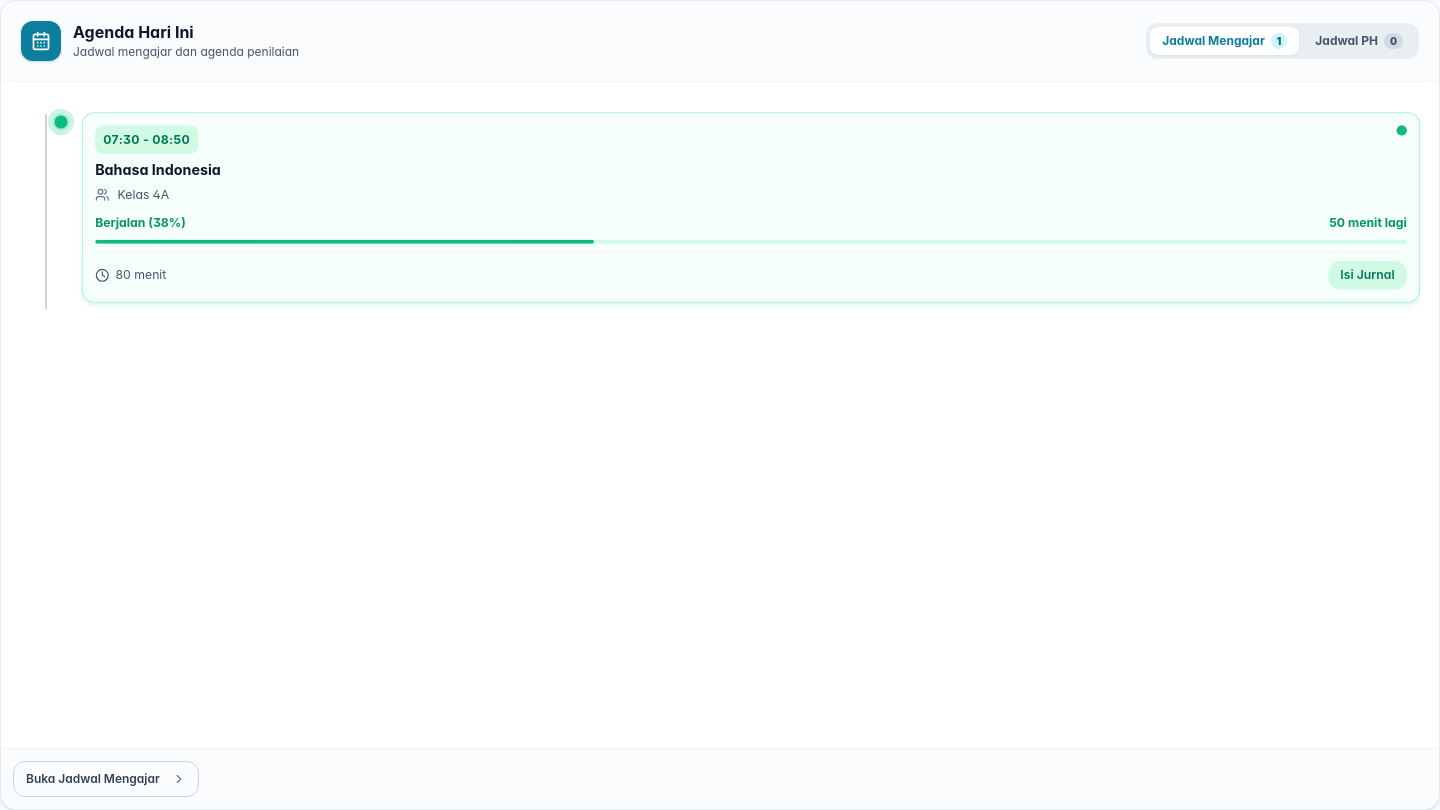
TodayAgendaCard › switches to Jadwal PH tab upon clicking the tab button
Click the button "Jadwal PH 0".
click(1359, 41)  # box [1303,27,1415,55]
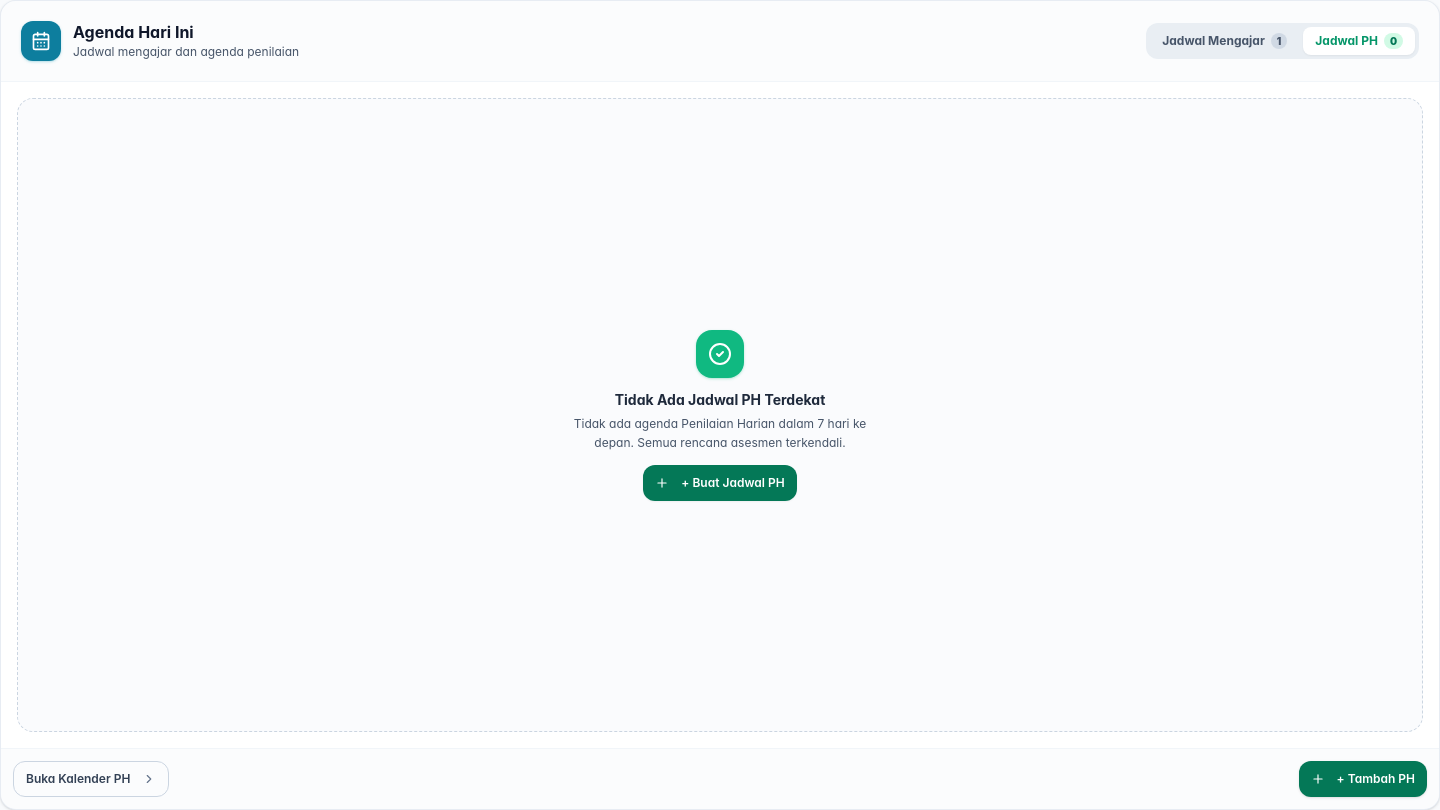
Check: the text "Buka Kalender PH" is shown, box [26,771,130,787]
